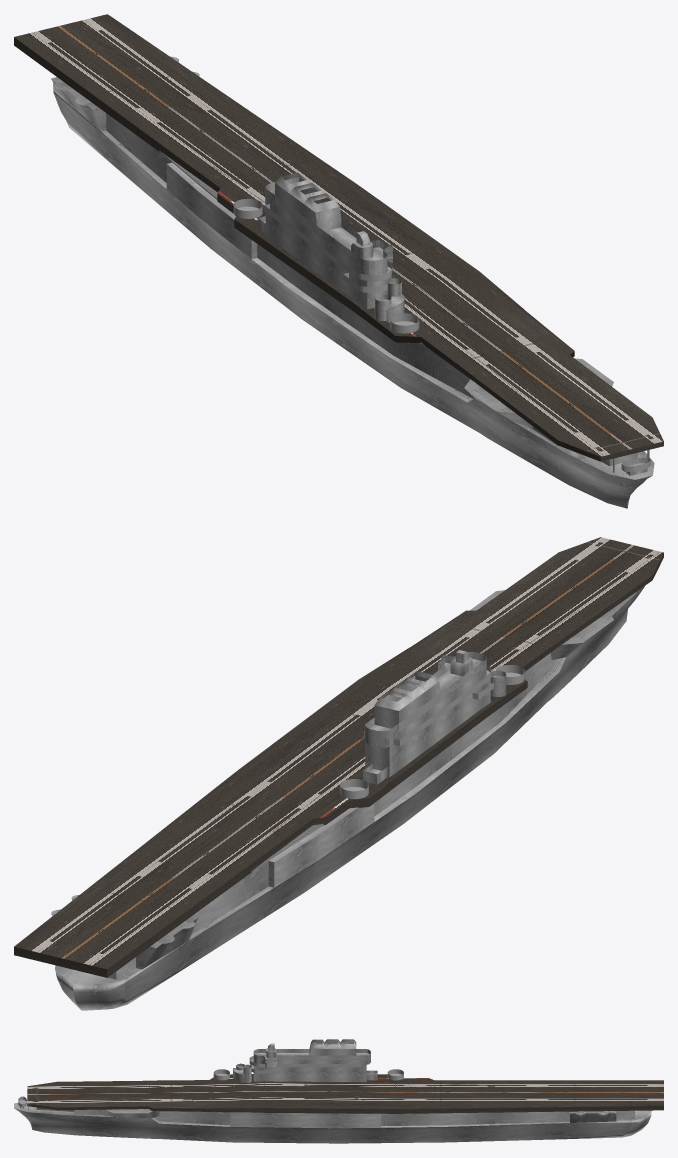
Rendered from Hornet.fbx.
3 renders of one model, top to bottom at view 1: azimuth 30°, elevation 25°; view 2: azimuth 150°, elevation 25°; view 3: azimuth 270°, elevation 25°, orthographic. The views are drawn at different scales.
Parts seen in each view (by area): view 1: pCube26; view 2: pCube26; view 3: pCube26.
Part boxes in pixels (box(x1,y1,x2,y2)): pCube26: box(14, 14, 663, 508); pCube26: box(14, 537, 663, 1010); pCube26: box(14, 1039, 663, 1143).
Bounding box in the file's own units: 3.26 × 3.19 × 25.1.
Materials: 3 (2 with a texture image).
